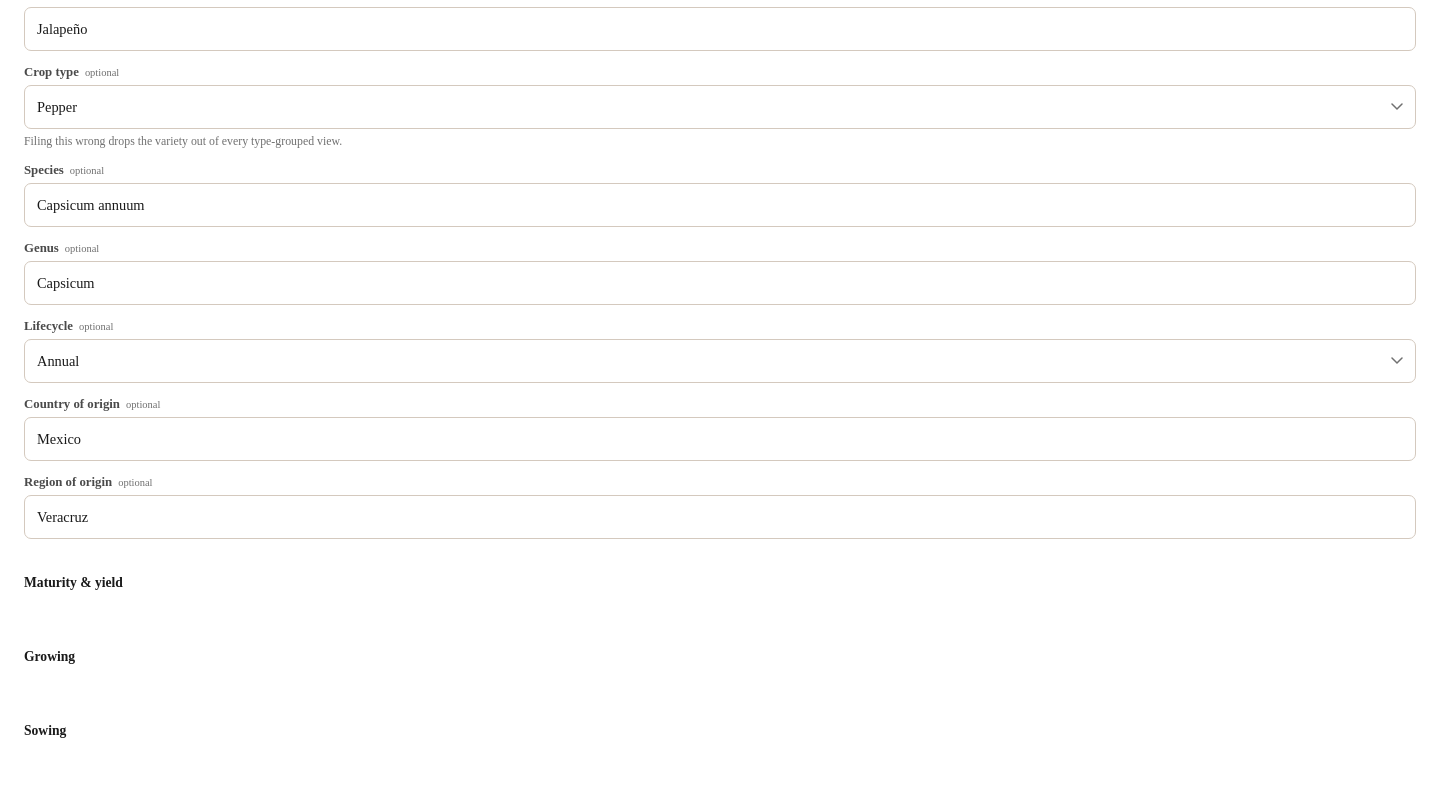
Test case: VarietyEditor — save gating › Save is disabled until something actually changes
Replace the text in the field labelled "Name*" with "Other" at (720, 29), box [24,7,1416,51]
(page scrolled)
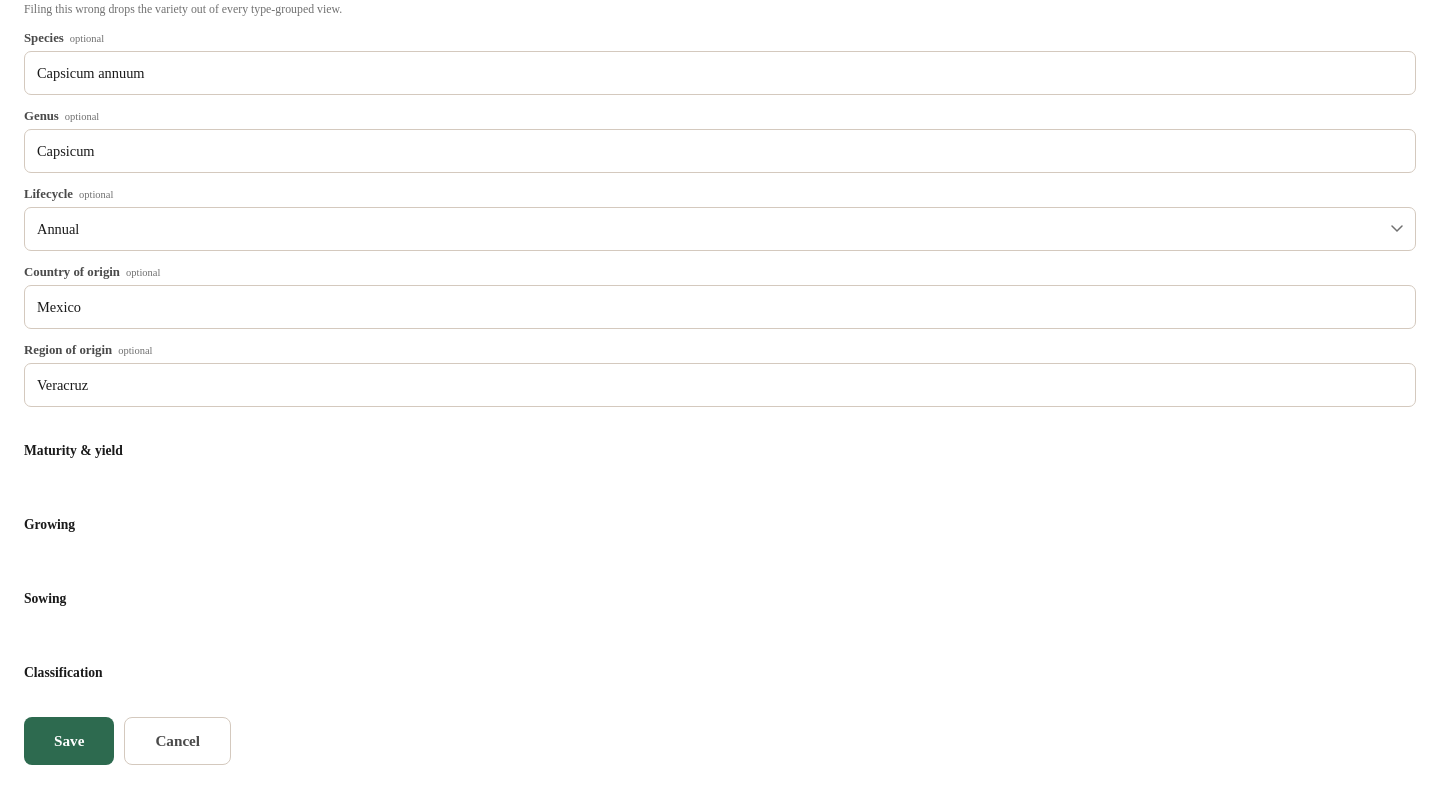
Check: the button "Save" is enabled, box [24,717,114,765]
